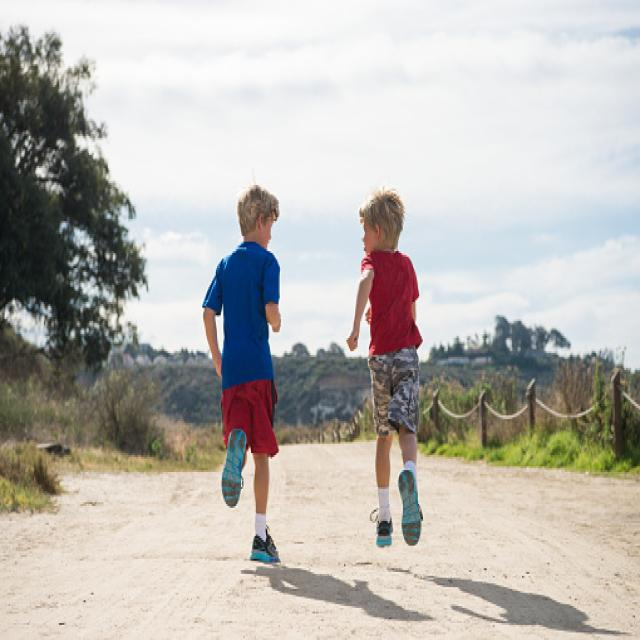Person: (203, 182, 280, 563), (348, 188, 422, 546)
